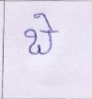e_matra: (33, 13, 57, 29)
